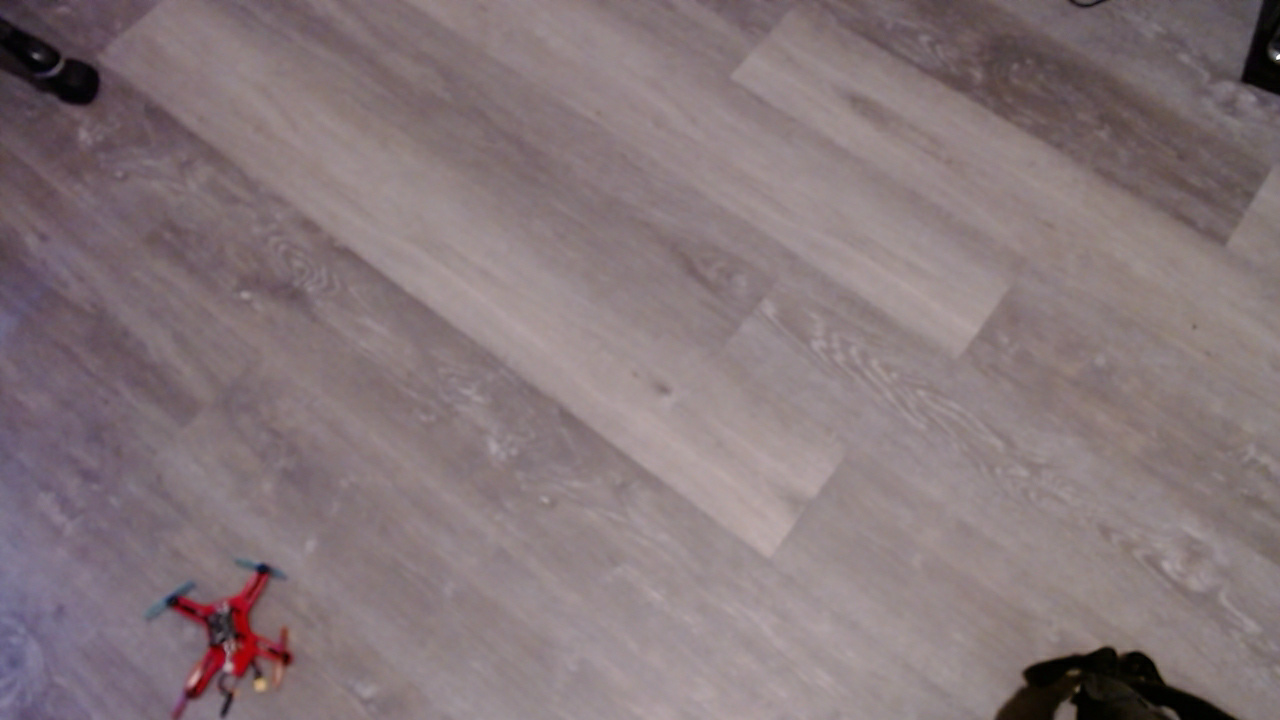crazyflie: (149, 554, 322, 720)
